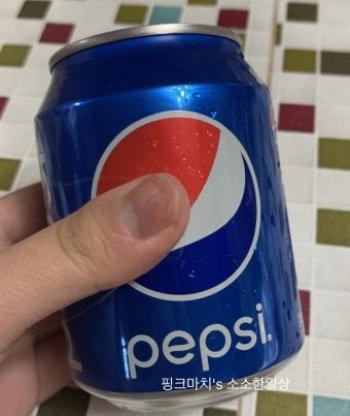Can: (29, 23, 310, 413)
